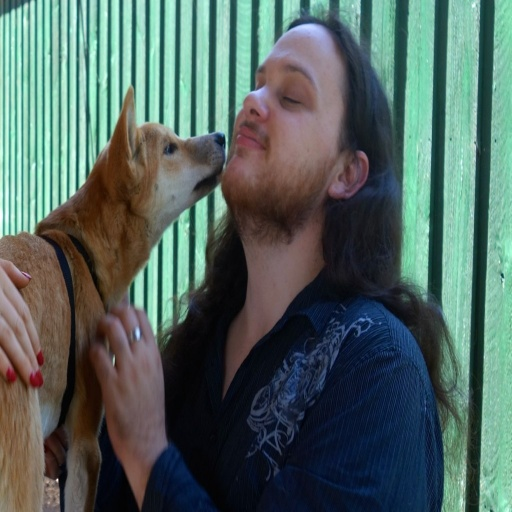hand: (87, 301, 163, 466), (0, 257, 44, 387), (41, 422, 69, 476)
